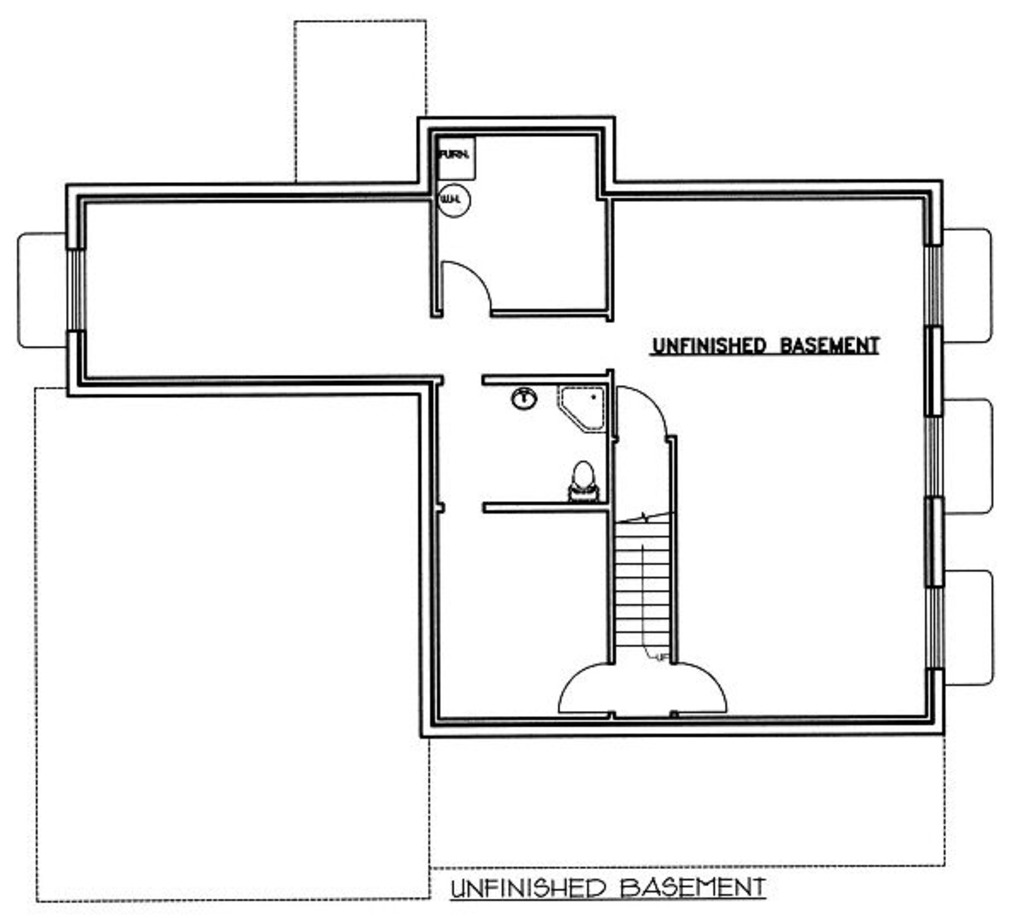door: (556, 653, 618, 724), (439, 250, 499, 320), (672, 661, 729, 711), (621, 387, 672, 440)
large_sink: (555, 453, 602, 504)
small_sink: (494, 381, 545, 418)
stairs: (611, 439, 684, 652)
window: (68, 247, 86, 335), (928, 587, 945, 673), (928, 243, 944, 328), (926, 414, 941, 498)
